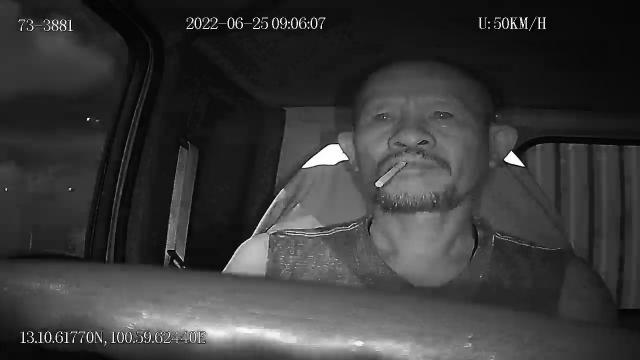SafeDriving: (364, 100, 401, 132), (424, 100, 462, 128)
Smoking: (375, 160, 407, 188)
